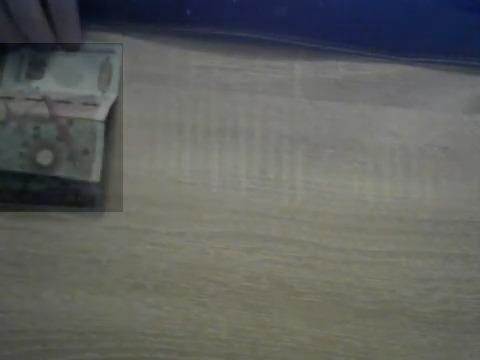10leva: (0, 43, 123, 212)
